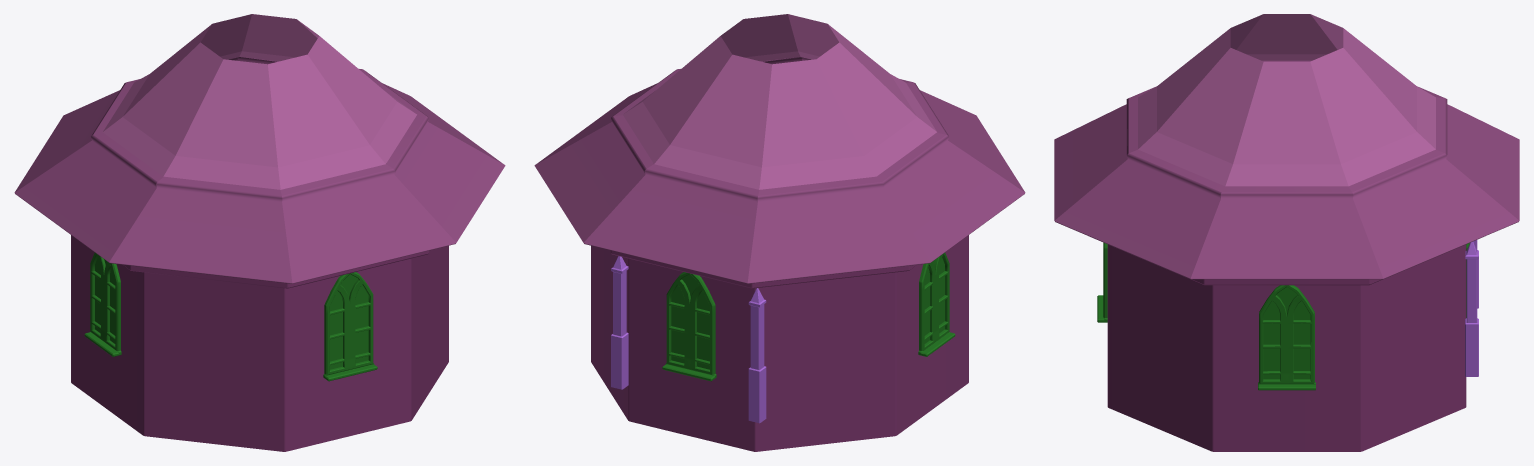
The model's file is Mid_Layer.fbx.
3 renders of one model, left to right at view 1: azimuth 30°, elevation 25°; view 2: azimuth 150°, elevation 25°; view 3: azimuth 270°, elevation 25°, orthographic.
Visible parts, largest first — view 1: Mid_Abbey_Cylinder, Mid_Abbey_Roof1_bottom, Mid_Abbey_Roof1_top, Curch_window1 (×2), pPlane1 (×2); view 2: Mid_Abbey_Cylinder, Mid_Abbey_Roof1_bottom, Mid_Abbey_Roof1_top, Curch_window1 (×2), pPlane1 (×2), Upper_Pillar_tall1, Upper_Pillar_tall; view 3: Mid_Abbey_Cylinder, Mid_Abbey_Roof1_bottom, Mid_Abbey_Roof1_top, Curch_window1 (×2), pPlane1, Upper_Pillar_tall.
Part boxes in pixels (x1=…): Mid_Abbey_Cylinder: x1=71, y1=235, x2=448, y2=451; Mid_Abbey_Roof1_bottom: x1=14, y1=57, x2=505, y2=283; Mid_Abbey_Roof1_top: x1=103, y1=14, x2=416, y2=189; Curch_window1 (×2): x1=84, y1=252, x2=377, y2=381; pPlane1 (×2): x1=95, y1=257, x2=368, y2=369; Mid_Abbey_Cylinder: x1=591, y1=235, x2=968, y2=451; Mid_Abbey_Roof1_bottom: x1=534, y1=57, x2=1025, y2=283; Mid_Abbey_Roof1_top: x1=623, y1=14, x2=936, y2=189; Curch_window1 (×2): x1=662, y1=252, x2=955, y2=381; pPlane1 (×2): x1=671, y1=257, x2=944, y2=369; Upper_Pillar_tall1: x1=748, y1=288, x2=766, y2=423; Upper_Pillar_tall: x1=611, y1=256, x2=628, y2=389; Mid_Abbey_Cylinder: x1=1101, y1=241, x2=1472, y2=451; Mid_Abbey_Roof1_bottom: x1=1054, y1=60, x2=1519, y2=279; Mid_Abbey_Roof1_top: x1=1138, y1=14, x2=1435, y2=186; Curch_window1 (×2): x1=1097, y1=242, x2=1315, y2=390; pPlane1: x1=1263, y1=287, x2=1310, y2=379; Upper_Pillar_tall: x1=1465, y1=241, x2=1478, y2=376.
Size of the model in its own units: 34.67 by 27.83 by 34.67.
